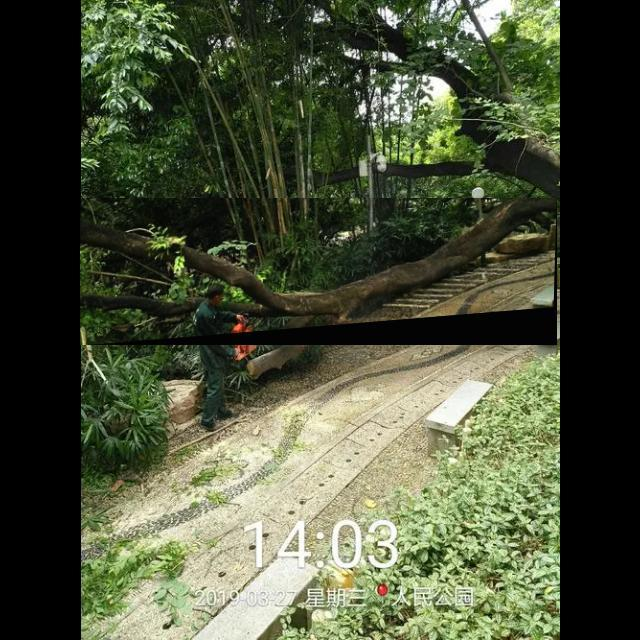fallen_tree: (80, 198, 558, 346)
